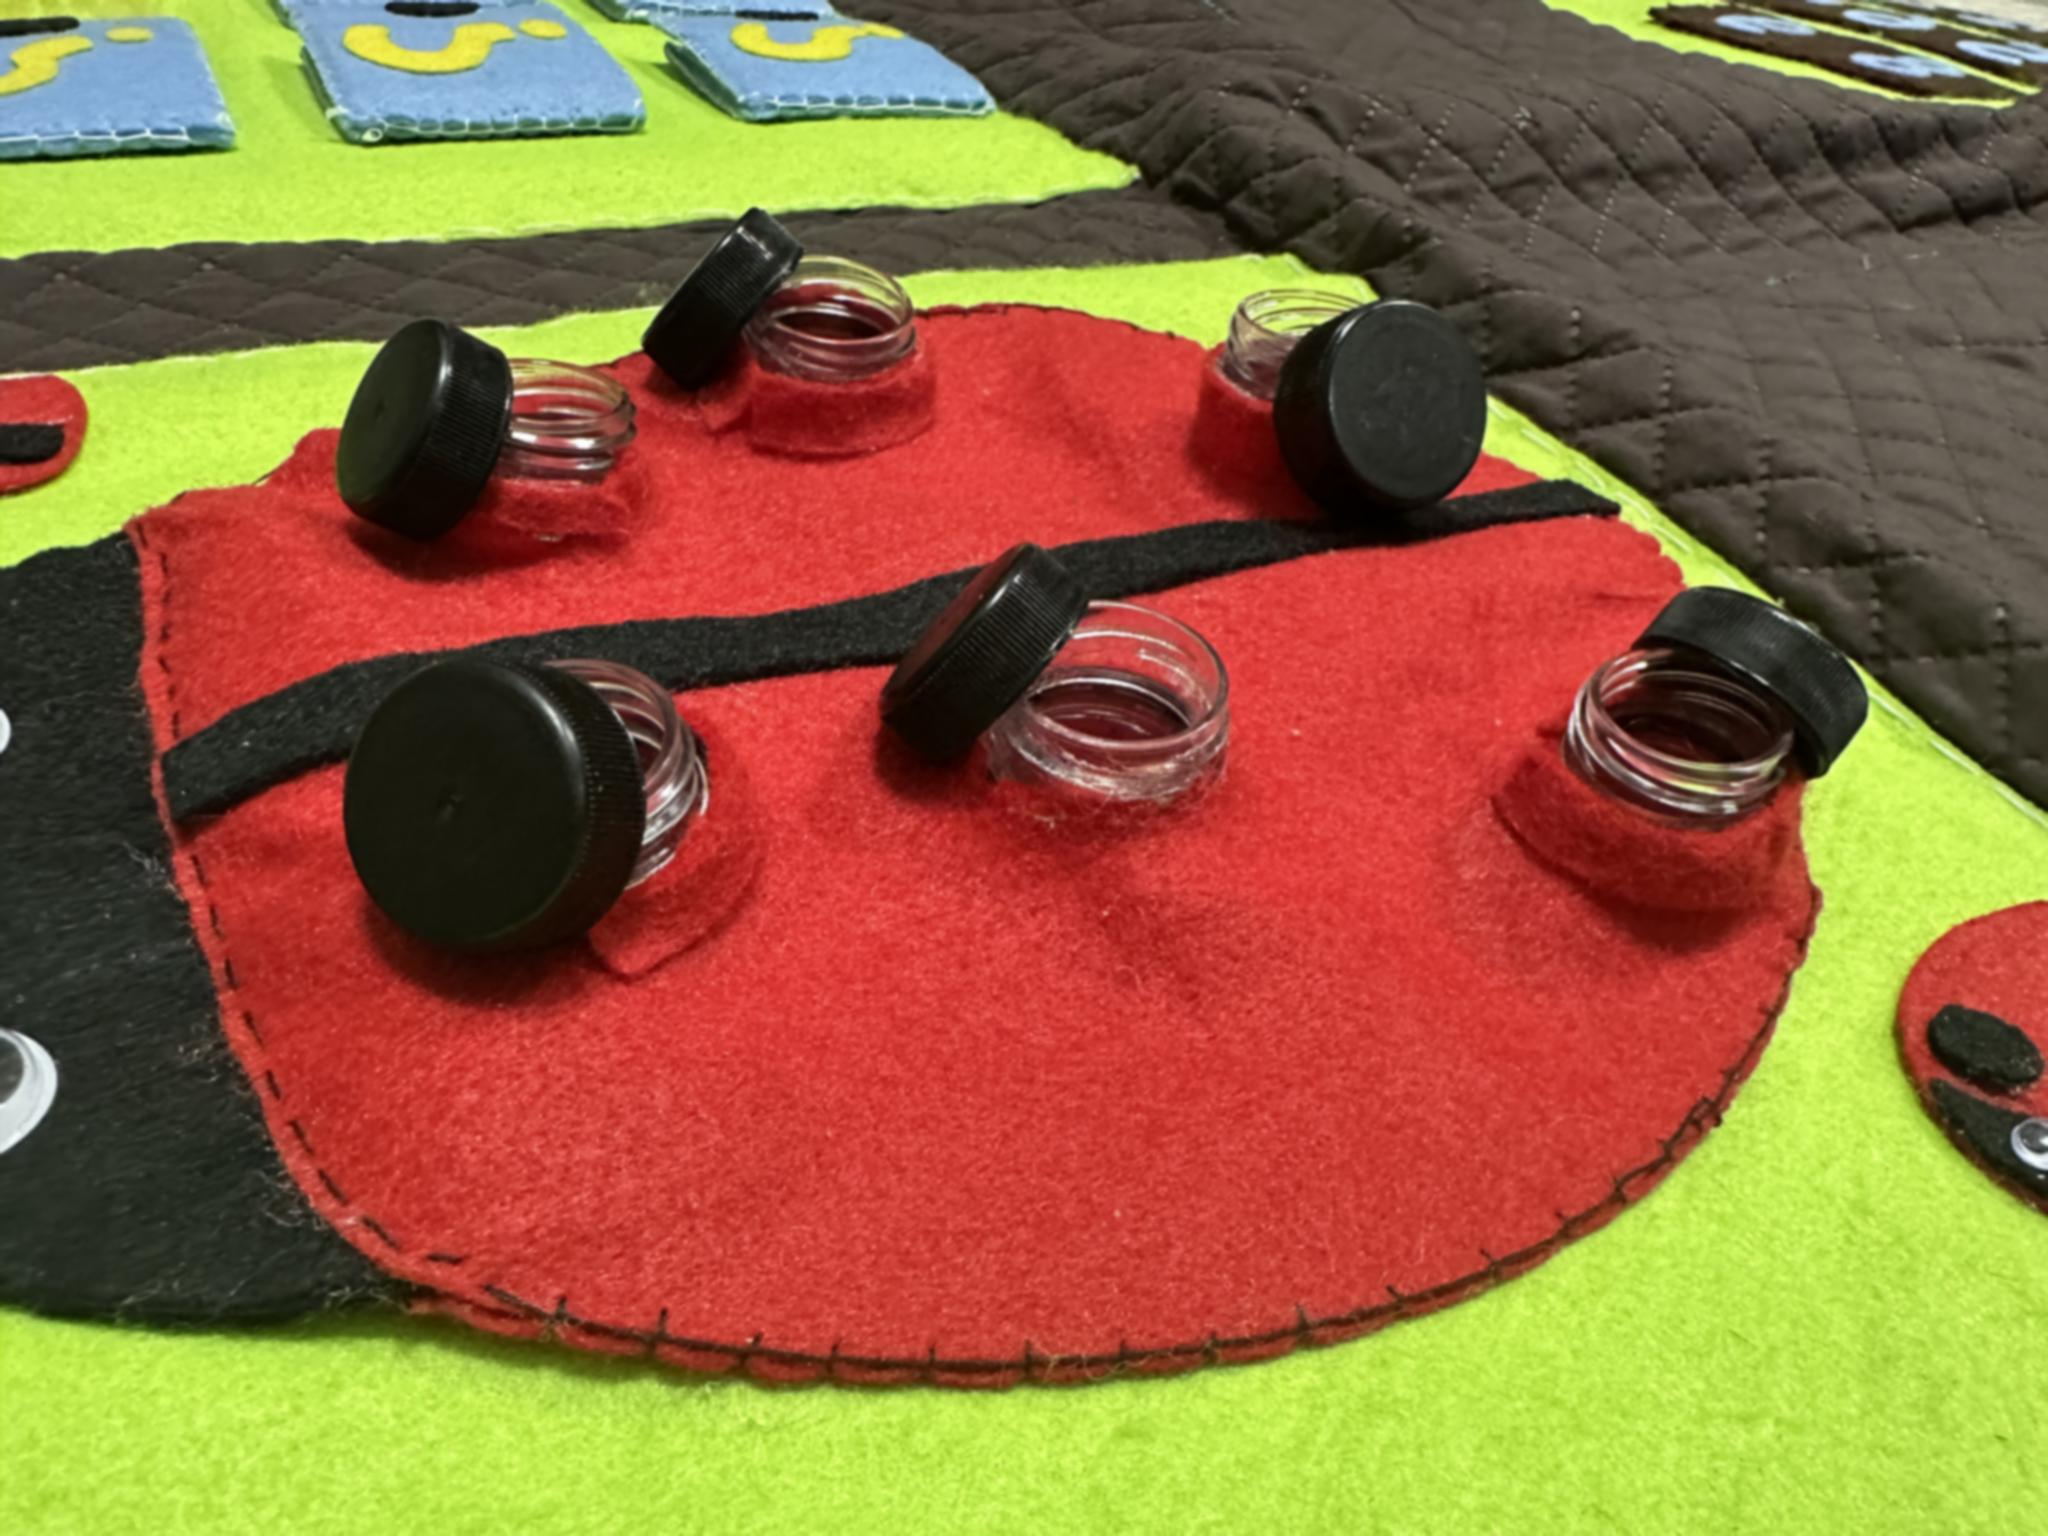cap_ng: (327, 644, 755, 997), (1472, 589, 1872, 928), (860, 537, 1248, 842), (324, 313, 639, 565), (639, 203, 942, 460), (1174, 281, 1487, 523)
